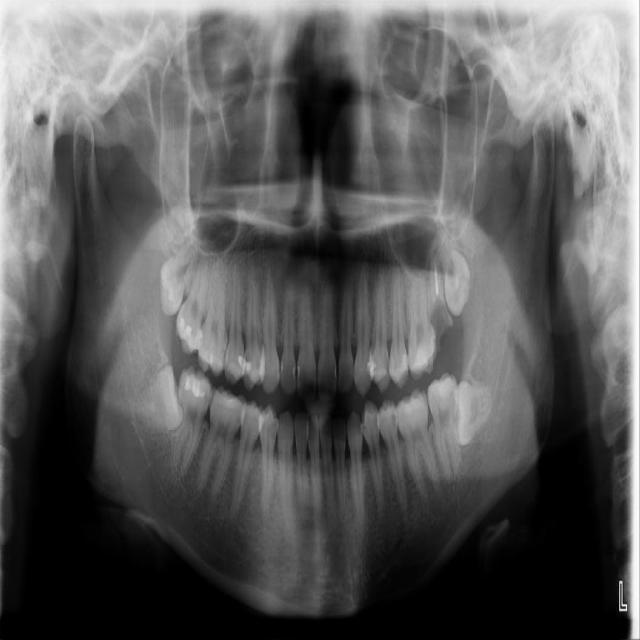3M ESPE Implant: (147, 227, 205, 322)
52: (167, 363, 222, 423), (197, 320, 228, 377), (407, 325, 437, 380), (174, 302, 202, 357), (428, 303, 458, 351), (241, 343, 266, 394), (368, 344, 392, 394), (296, 352, 318, 403), (387, 344, 410, 390), (352, 350, 374, 397), (223, 343, 247, 386), (318, 350, 337, 403), (281, 354, 296, 394), (269, 418, 280, 440), (383, 353, 390, 373), (361, 424, 368, 437), (223, 345, 227, 365), (392, 412, 397, 427), (278, 362, 281, 374), (294, 368, 296, 379), (336, 366, 337, 378), (297, 368, 298, 378)
73: (424, 239, 447, 317), (616, 584, 622, 602)
BioLife Implant: (436, 218, 475, 317)
Biomet 3i Implant: (451, 380, 494, 449)
Blue Sky Bio Implant: (426, 373, 461, 478)
Caries: (173, 237, 213, 357)
Implant: (170, 365, 215, 474)
Keystone Dental Implant: (129, 363, 187, 438)
